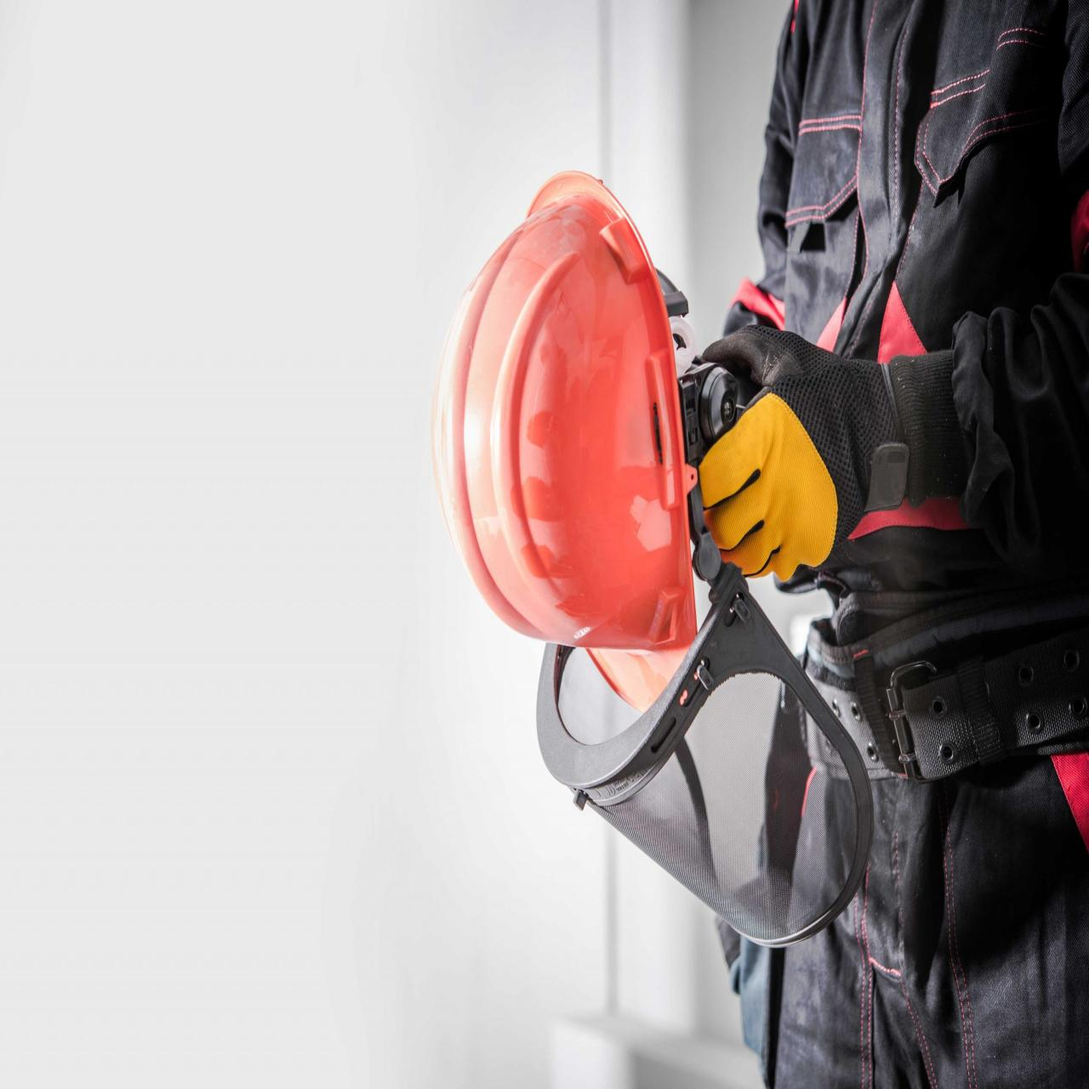NO_Safety_Vest: (772, 0, 1089, 734)
Person: (625, 3, 1089, 1089)
